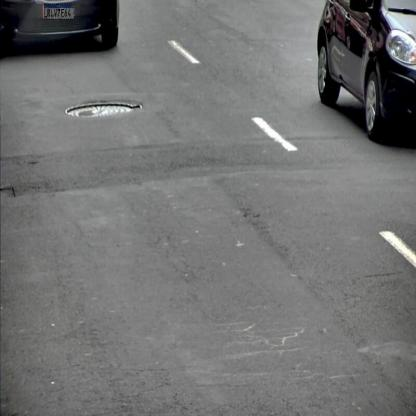PlacaM: (44, 3, 74, 20)
